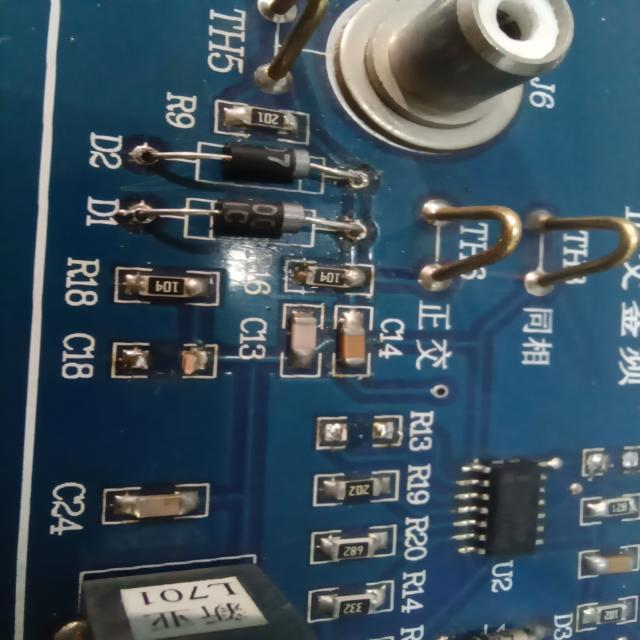Missing component: (52, 325, 228, 390), (308, 406, 447, 456), (577, 438, 640, 480)
